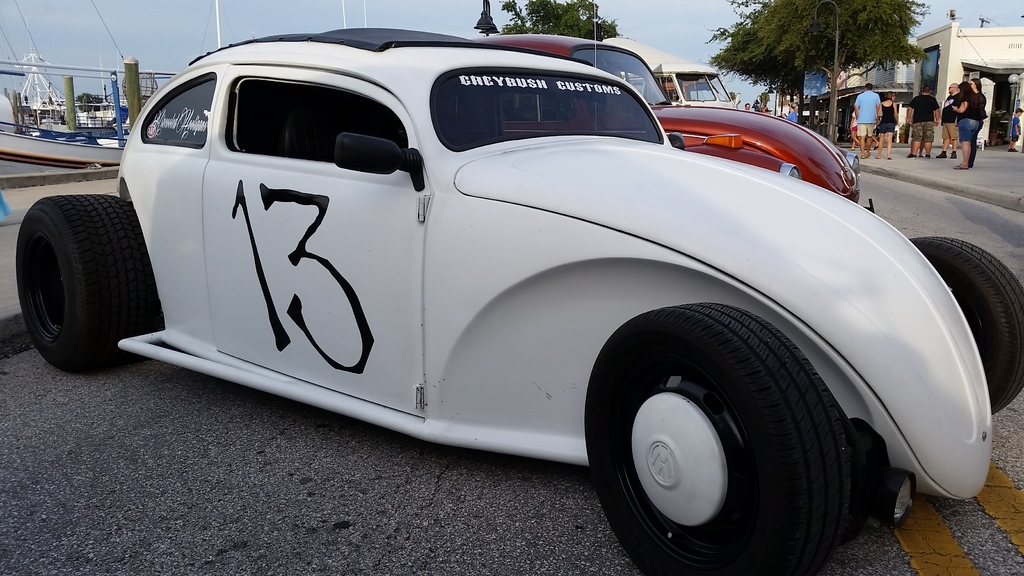Car: (15, 24, 1023, 575), (472, 34, 860, 198), (600, 35, 736, 106)
